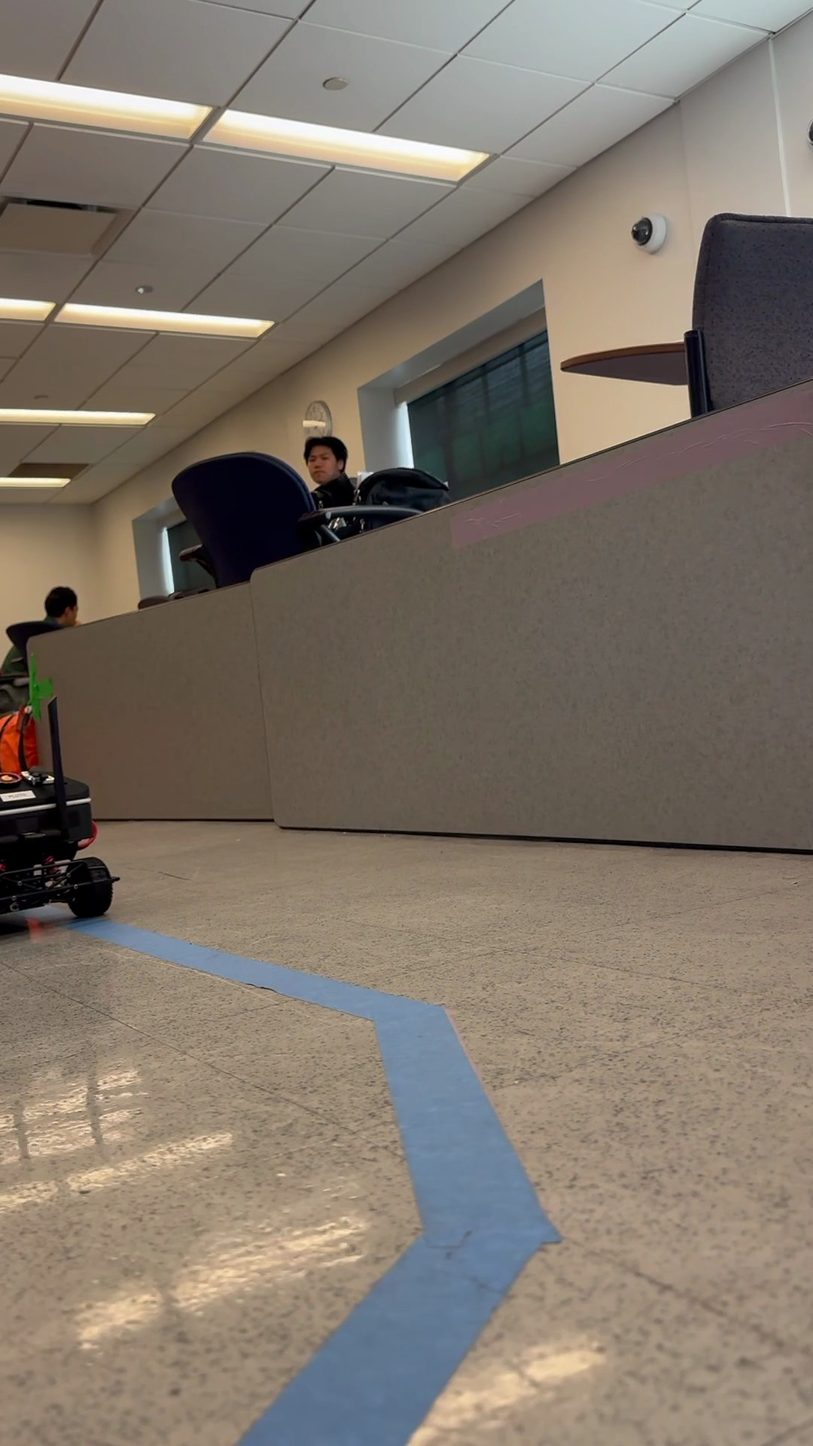racecar: (1, 710, 118, 940)
